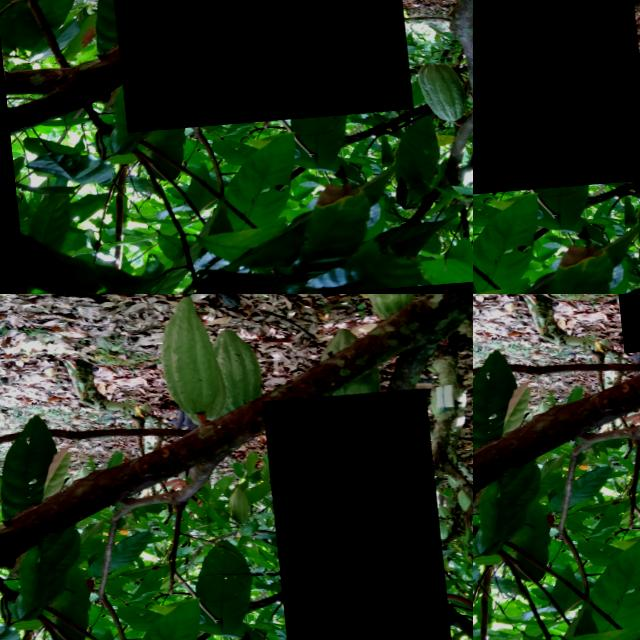Sana: (256, 398, 440, 640), (85, 0, 402, 134), (473, 0, 640, 201), (608, 294, 640, 357)
